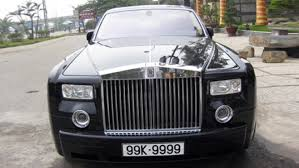Car number plates: (121, 142, 184, 155)
